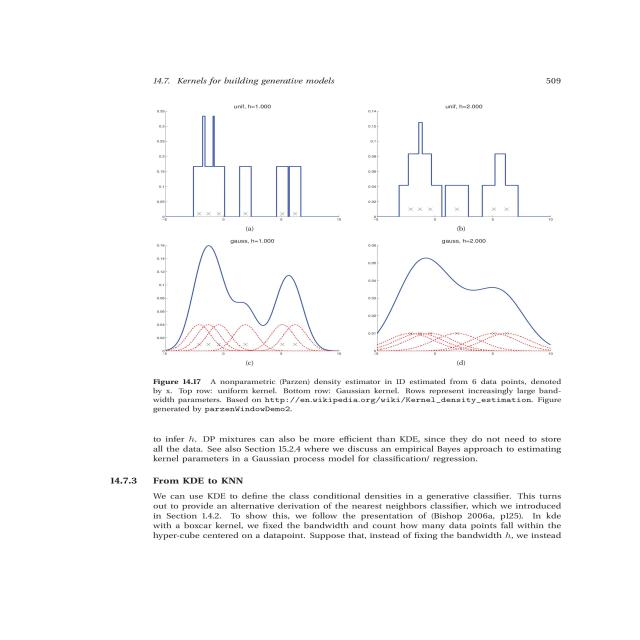diagram: (100, 97, 616, 418)
